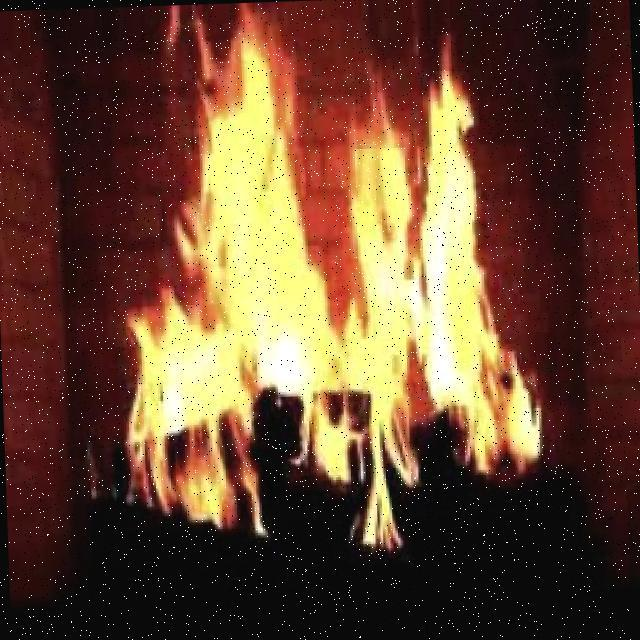Fire: (142, 47, 537, 469)
